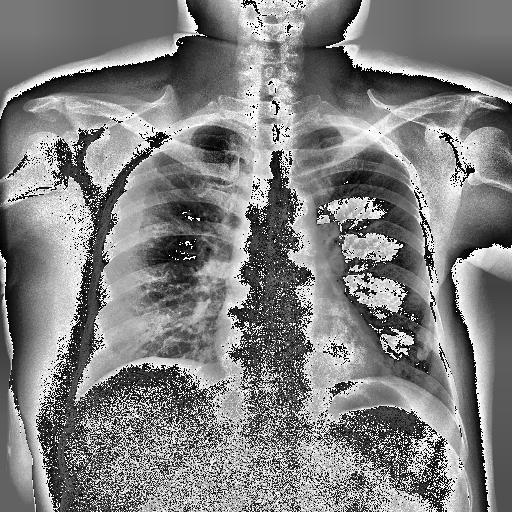2- Calcification: (417, 332, 434, 360), (416, 333, 432, 361)
8- Nodule-Mass: (415, 332, 434, 362), (426, 320, 434, 326)
